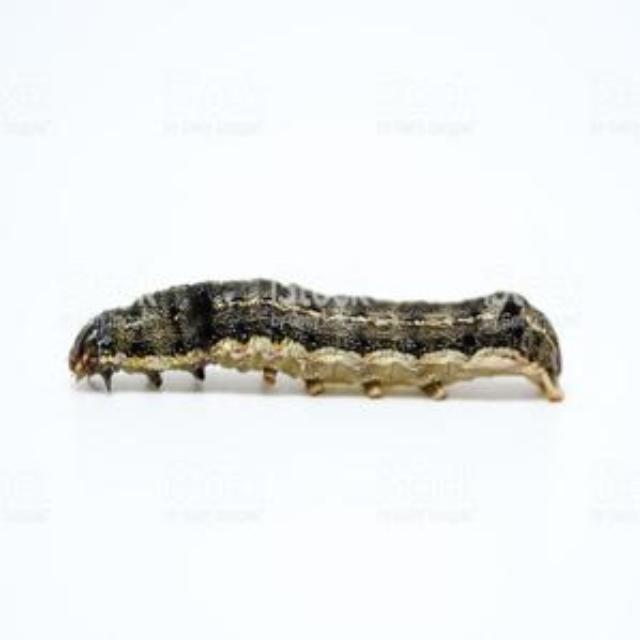Tobacco cutworm: (54, 204, 578, 478)
